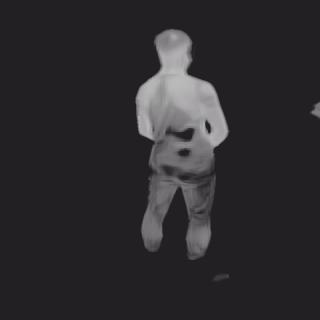Gun: (165, 125, 195, 157)
